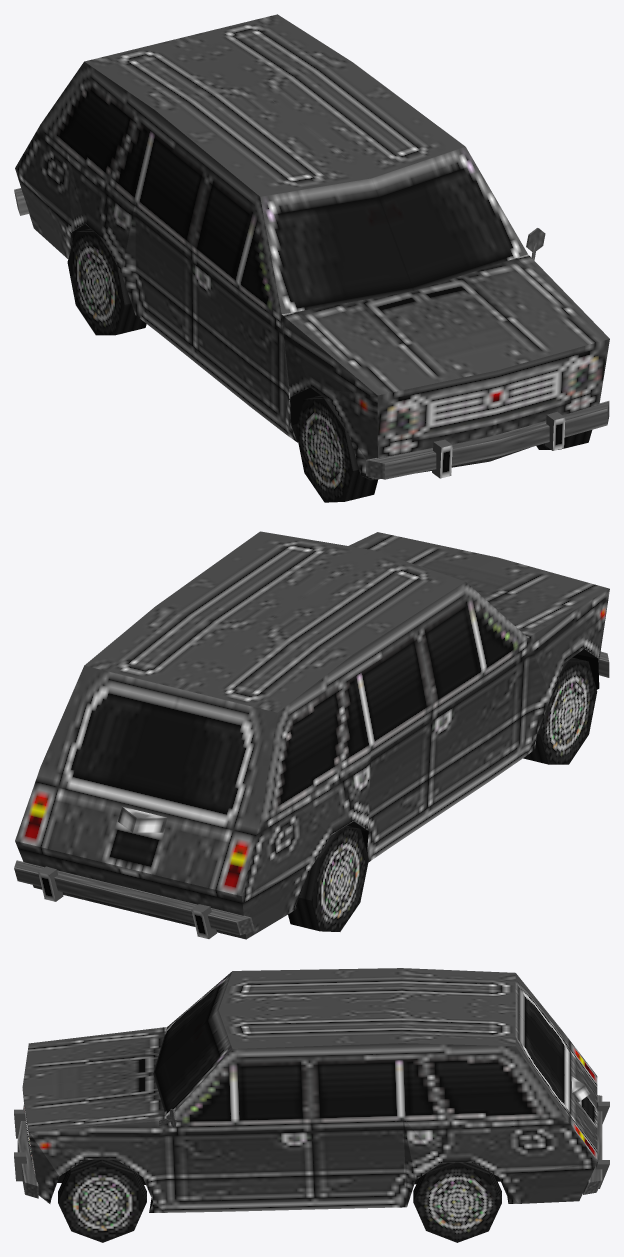
File: Auto2gris.fbx
The picture shows the model from 3 angles, top to bottom: view 1: azimuth 30°, elevation 25°; view 2: azimuth 150°, elevation 25°; view 3: azimuth 270°, elevation 25°; orthographic projection. The views are drawn at different scales.
Visible parts, largest first — view 1: Car; view 2: Car; view 3: Car.
Part boxes in pixels (x1,y1,x2,y2): Car: [14, 14, 609, 502]; Car: [14, 531, 609, 939]; Car: [14, 968, 609, 1242].
Size of the model in its own units: 256 by 217 by 615.
